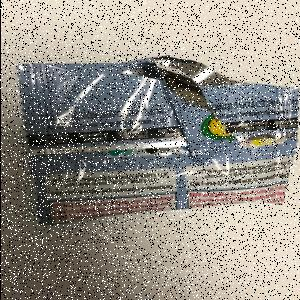Trash: (16, 56, 300, 228)
